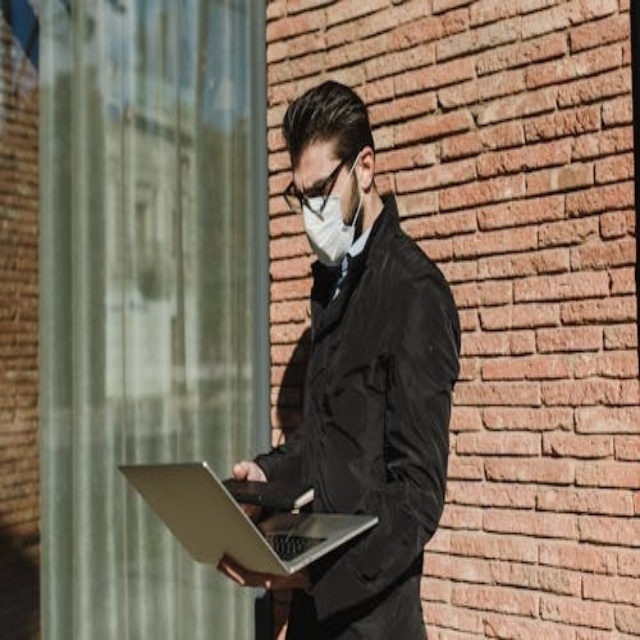Gafas: (286, 151, 357, 214)
Mascara: (300, 153, 363, 264)
Sin_guantes: (231, 458, 269, 486)
